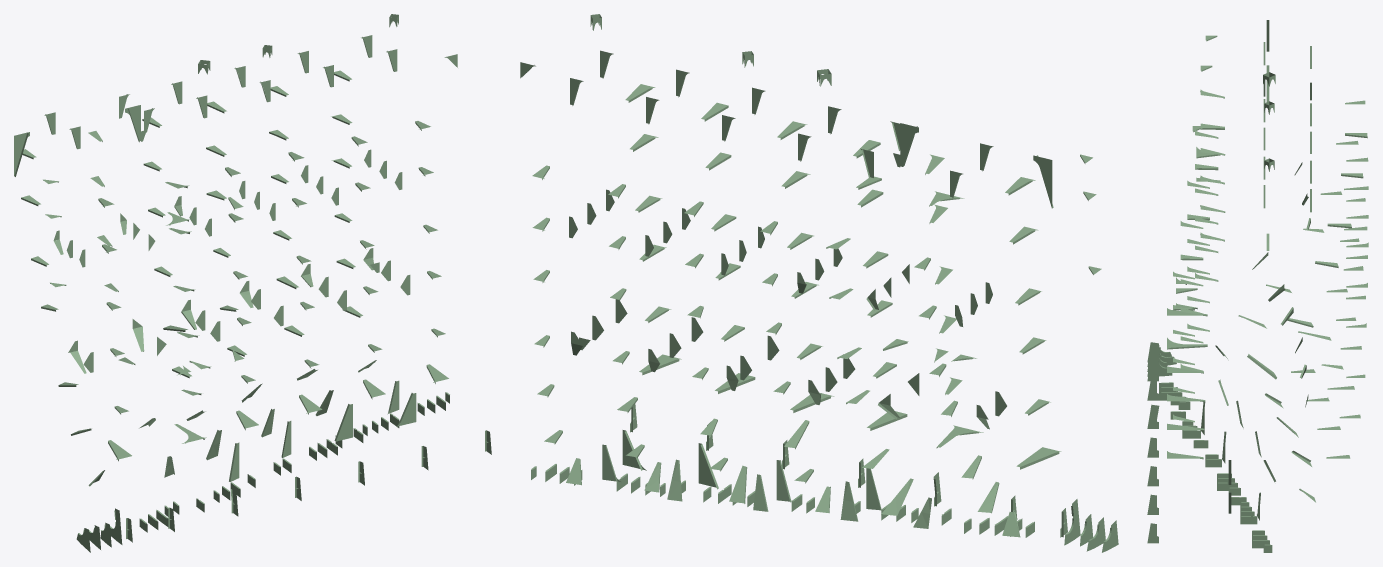
File: NO_5_WING_CARGO_OIL_TK_PS.glb
3 views of the same model, side by side, from view 1: azimuth 30°, elevation 25°; view 2: azimuth 150°, elevation 25°; view 3: azimuth 270°, elevation 25° (orthographic). The views are drawn at different scales.
Size of the model in its own units: 36.68 by 31.5 by 17.14.
